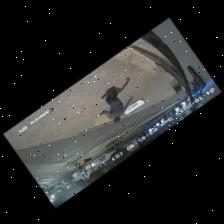person: (101, 87, 132, 122)
